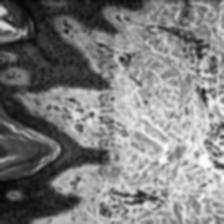Non-Cancerous Skin Condition: (133, 0, 224, 224), (0, 1, 81, 220)
